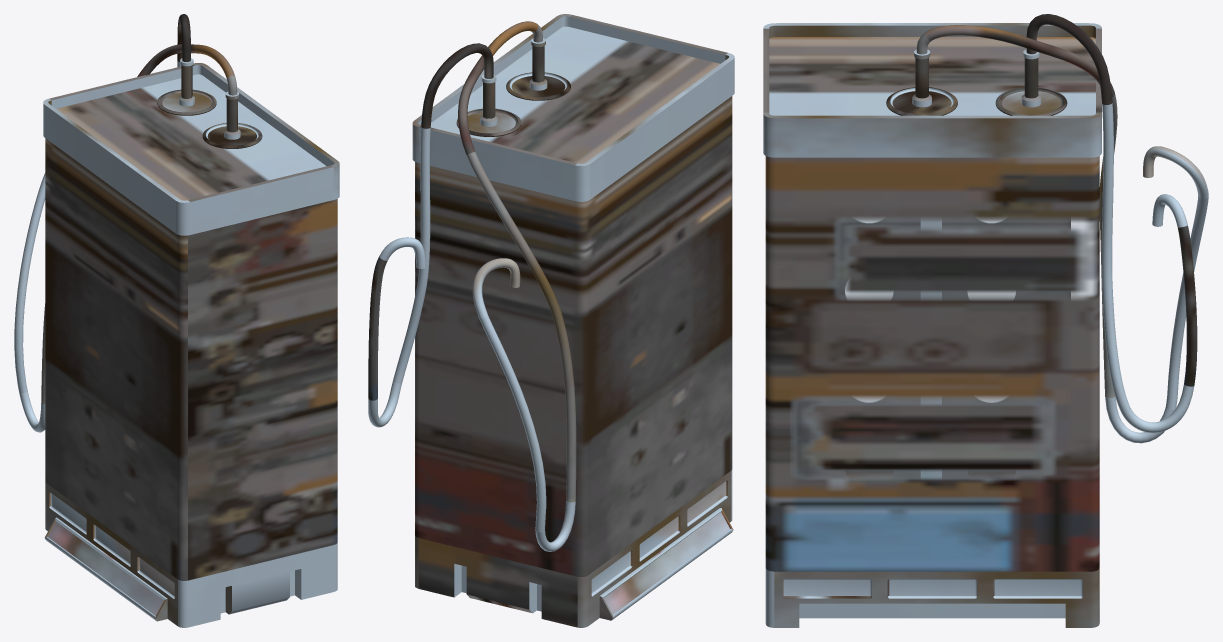
File: SM_Container02.gltf
3 views of the same model, side by side, from view 1: azimuth 30°, elevation 25°; view 2: azimuth 150°, elevation 25°; view 3: azimuth 270°, elevation 25° (orthographic). The views are drawn at different scales.
Visible parts, largest first — view 1: SM_Container02; view 2: SM_Container02; view 3: SM_Container02.
Part boxes in pixels (x1,y1,x2,y2): SM_Container02: (14,14,339,627); SM_Container02: (368,14,734,627); SM_Container02: (763,14,1208,627).
Size of the model in its own units: 0.4095 by 1.08 by 0.7341.
Materials: 2 (2 with a texture image).
